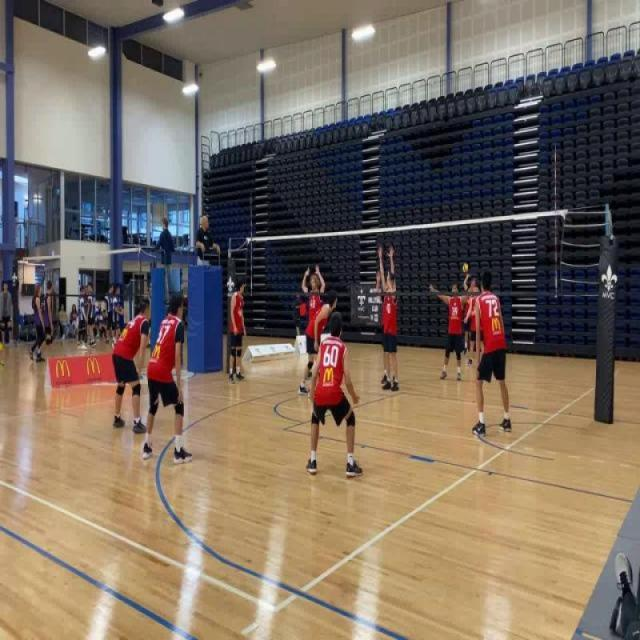volleyball: (462, 261, 470, 274)
